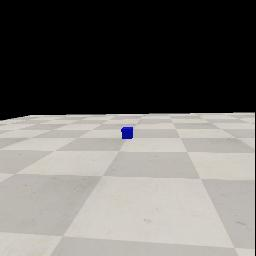box: (121, 127, 133, 139)
